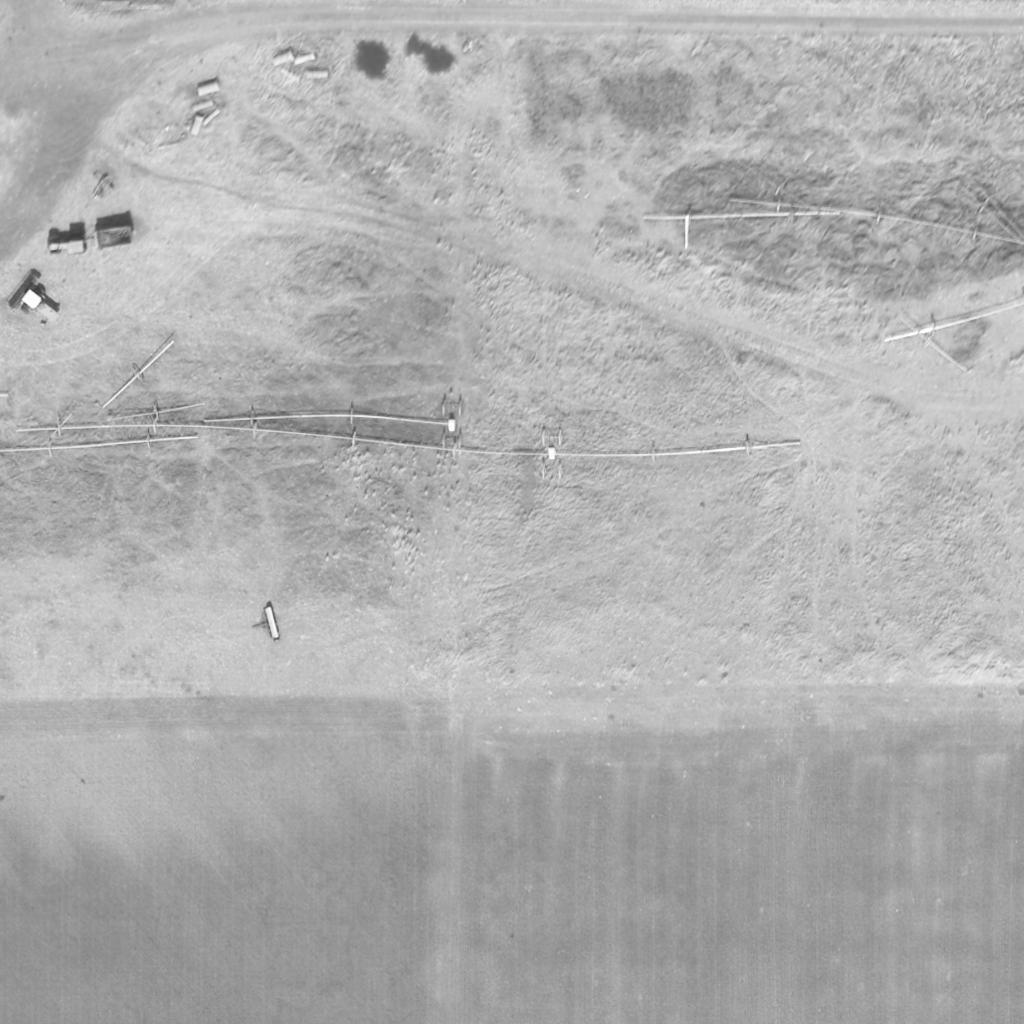vehicle: (17, 283, 67, 331), (45, 227, 87, 259)
